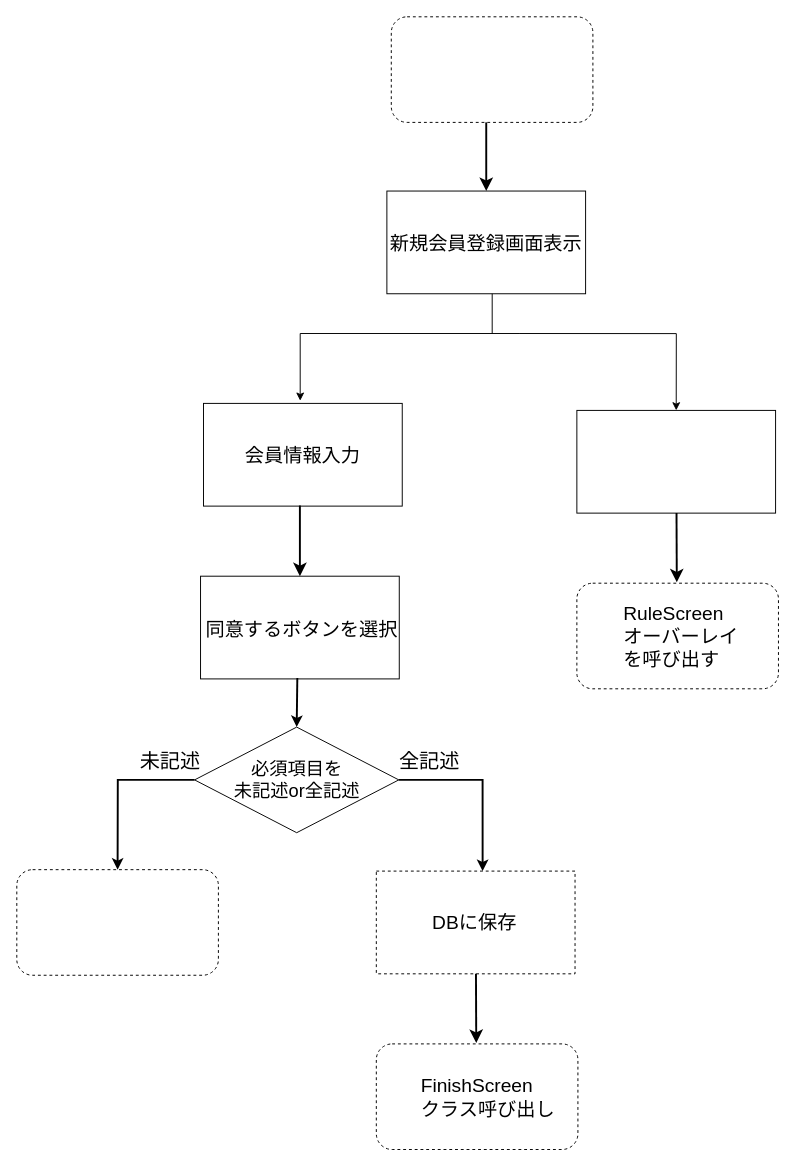
Image size: 796x1166. Some labels were removed from this diagram. Each missing label, with the centre of its shape:
NewMember クラス呼び出し: (x=491, y=69)
ReturnWrite オーバーレイ 呼び出し: (x=117, y=922)
利用規約ボタン を選択: (x=676, y=461)
